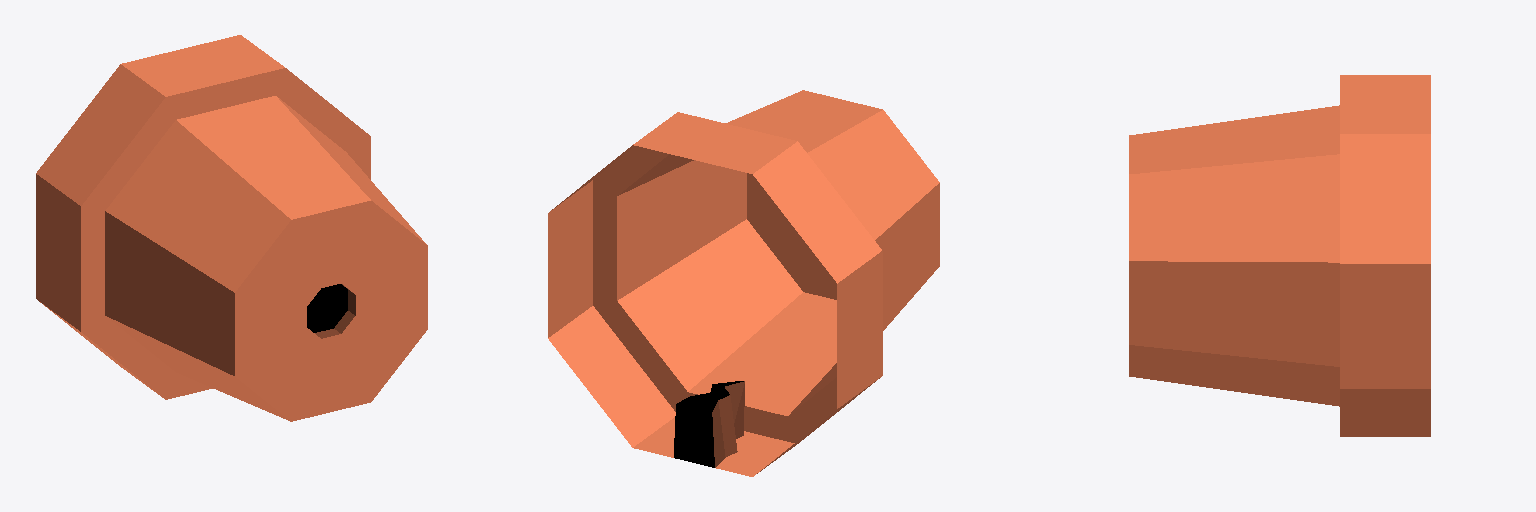
The model's file is big_flower_pot.obj.
The picture shows the model from 3 angles: view 1: azimuth 30°, elevation 25°; view 2: azimuth 150°, elevation 25°; view 3: azimuth 270°, elevation 25°; orthographic projection.
Visible parts, largest first — view 1: Cylinder; view 2: Cylinder; view 3: Cylinder.
Part boxes in pixels (x1,y1,x2,y2): Cylinder: (36,35,427,421); Cylinder: (548,90,939,476); Cylinder: (1129,75,1430,436).
Size of the model in its own units: 0.5543 by 0.5543 by 0.5.